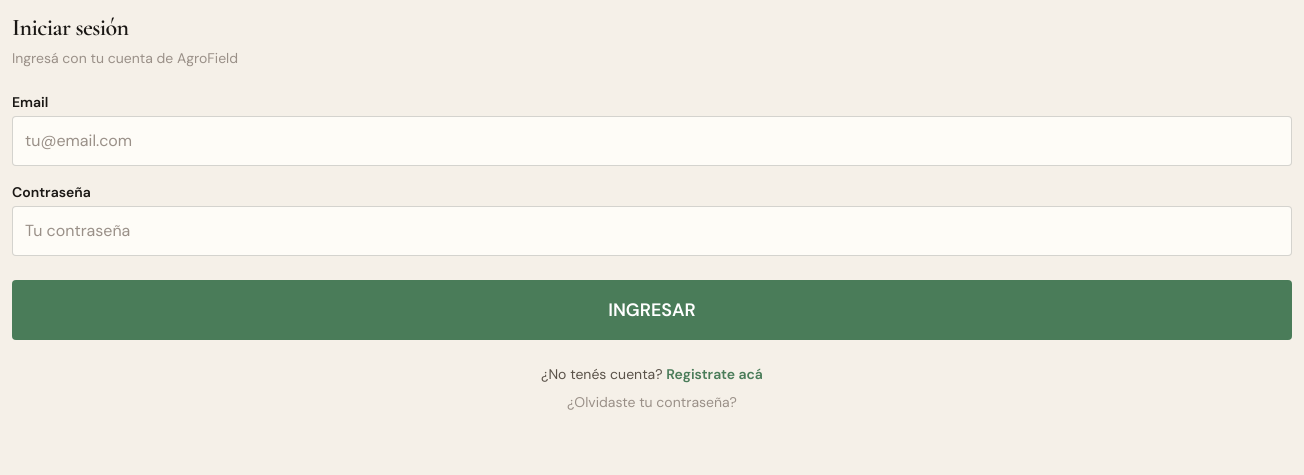
Test case: LoginPage › shows validation error for invalid email
Type "not-an-email" into the field labelled "Email".
click(652, 141); type("not-an-email")  # box [12, 116, 1292, 166]
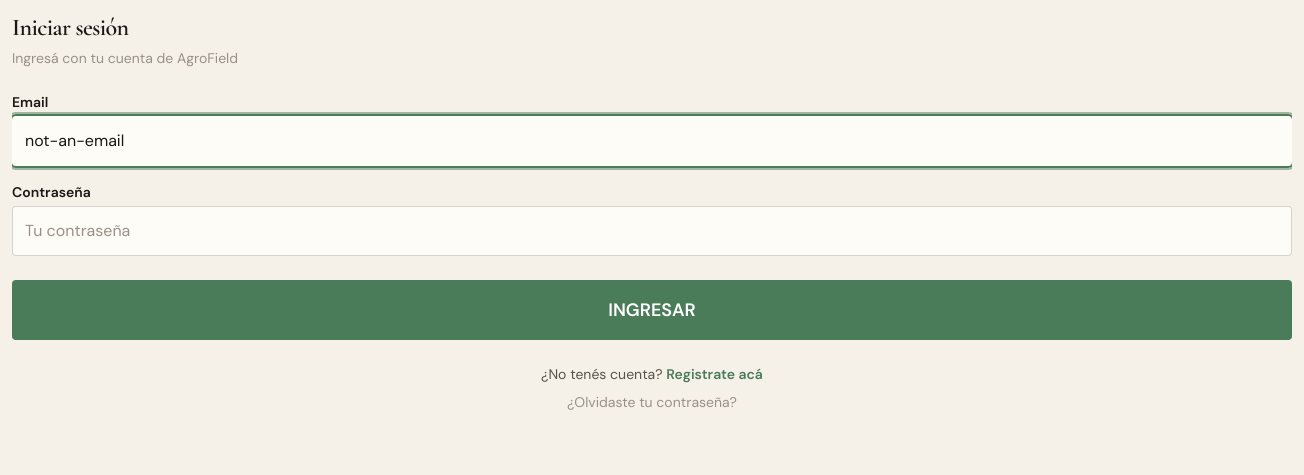
Click the button "INGRESAR".
click(652, 310)  # box [12, 280, 1292, 340]
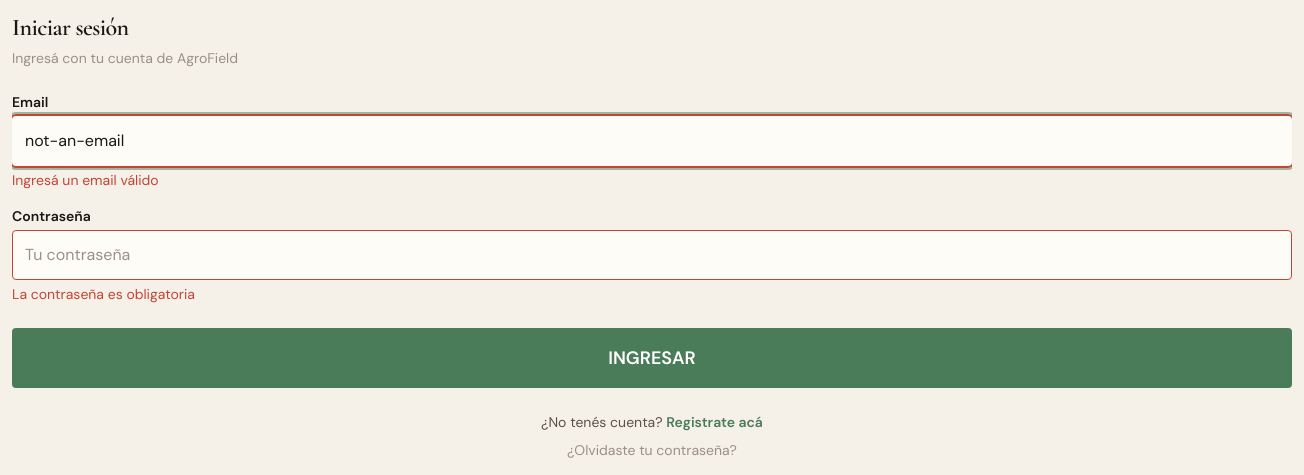
Result: the text "Ingresá un email válido" is shown at [12, 171, 159, 189]
